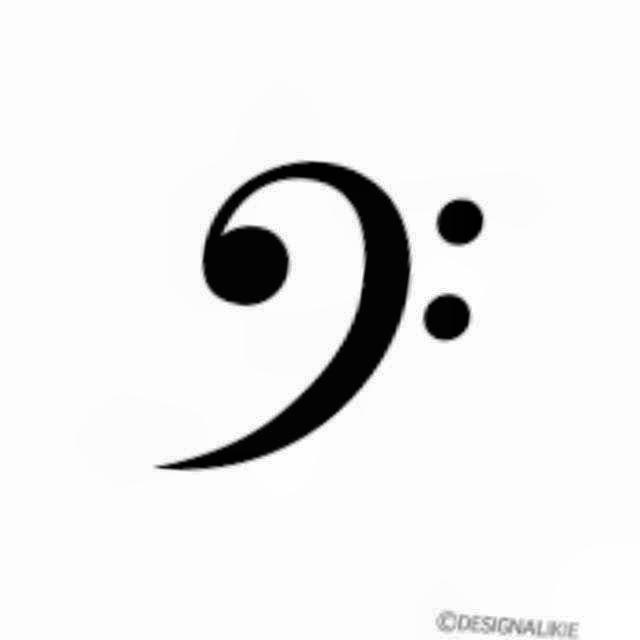Bass-clef: (138, 148, 502, 488)
